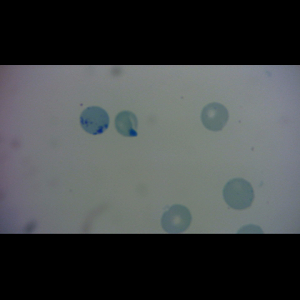aggregate reticulocyte: (78, 105, 111, 136)
erythrocyte: (159, 203, 193, 234), (113, 109, 140, 139)
punctate reticulocyte: (221, 177, 256, 211), (199, 101, 231, 133)
